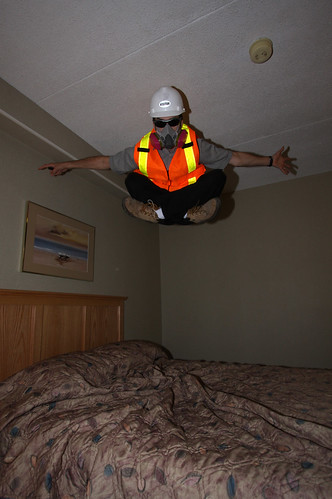person hardhat: (34, 81, 302, 227)
